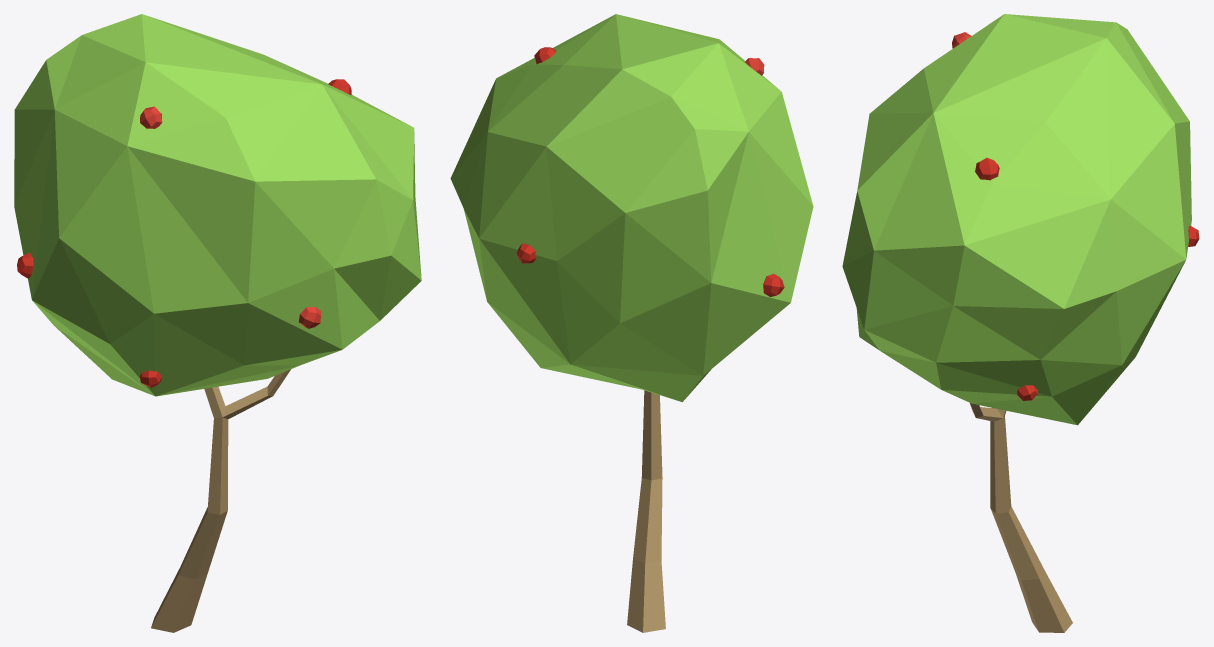
Rendered from Apple_Tree_Apples_m_04_LOD.fbx.
3 views of the same model, side by side, from view 1: azimuth 30°, elevation 25°; view 2: azimuth 150°, elevation 25°; view 3: azimuth 270°, elevation 25° (orthographic). The views are drawn at different scales.
Parts seen in each view (by area): view 1: Apple_Tree_Apples_m_04_LOD0; view 2: Apple_Tree_Apples_m_04_LOD0; view 3: Apple_Tree_Apples_m_04_LOD0.
Part boxes in pixels (x1,y1,x2,y2): Apple_Tree_Apples_m_04_LOD0: (14,14,421,632); Apple_Tree_Apples_m_04_LOD0: (450,14,813,632); Apple_Tree_Apples_m_04_LOD0: (842,14,1199,632).
Size of what is drawn, in the model's own units: 527 by 864 by 476.
